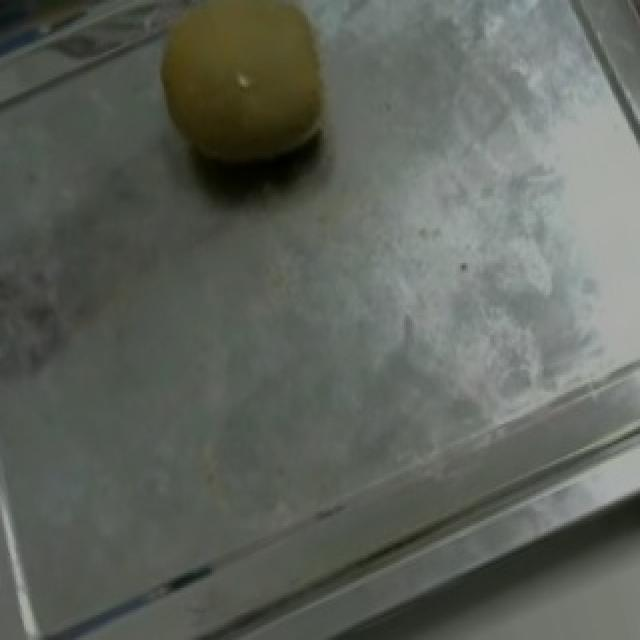Fruit: (120, 0, 368, 221)
